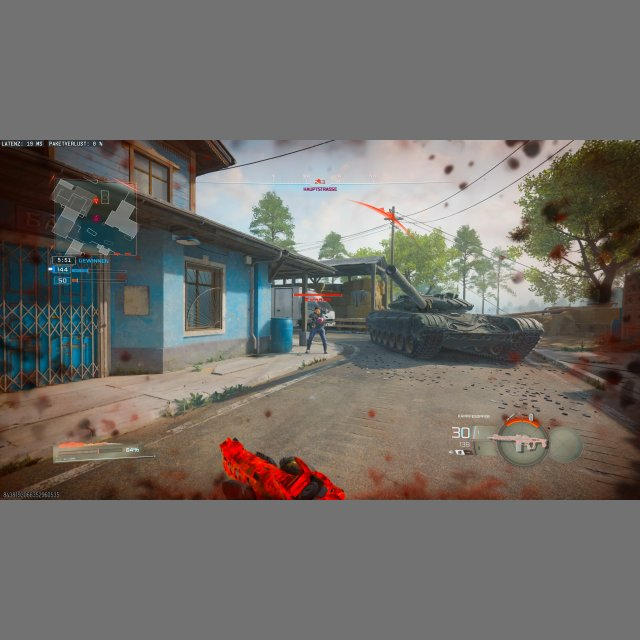head: (314, 305, 320, 313)
player: (305, 305, 329, 354)
